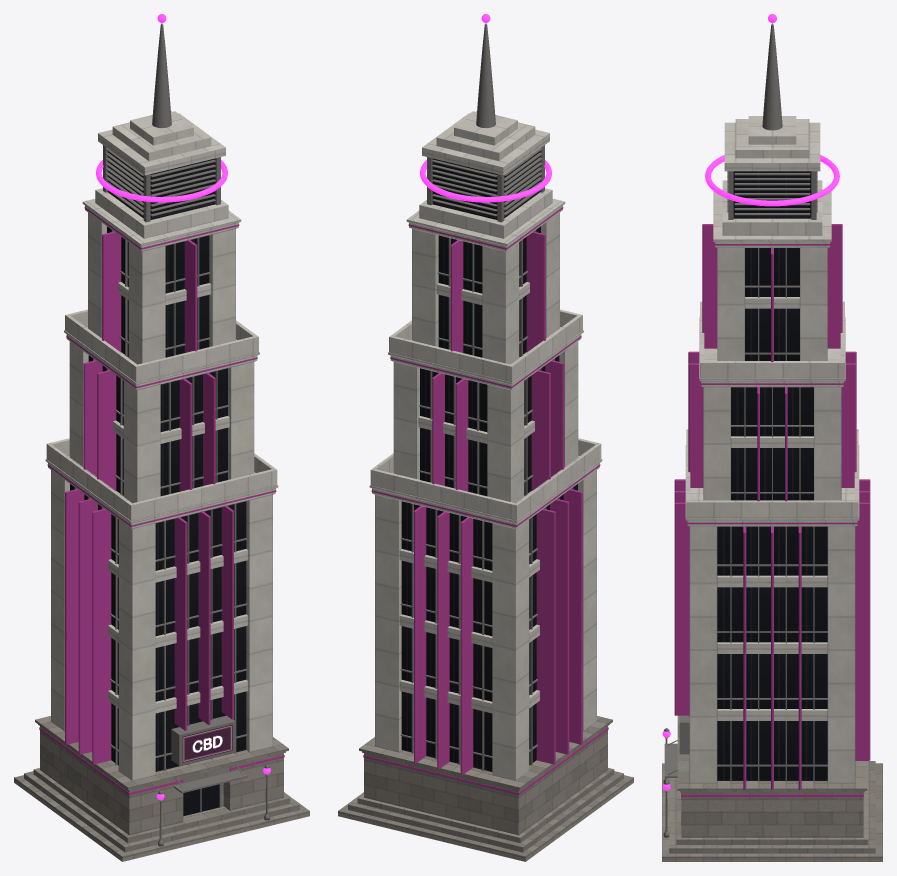
Rendered from s17-curable-blockchain-dao.glb.
3 renders of one model, left to right at view 1: azimuth 30°, elevation 25°; view 2: azimuth 150°, elevation 25°; view 3: azimuth 270°, elevation 25°, orthographic. The views are drawn at different scales.
Visible parts, largest first — view 1: Landmark · Curable.Blockchain DAO (Series 17); view 2: Landmark · Curable.Blockchain DAO (Series 17); view 3: Landmark · Curable.Blockchain DAO (Series 17).
Part boxes in pixels (x1,y1,x2,y2): Landmark · Curable.Blockchain DAO (Series 17): [14, 14, 309, 861]; Landmark · Curable.Blockchain DAO (Series 17): [338, 14, 633, 861]; Landmark · Curable.Blockchain DAO (Series 17): [662, 14, 882, 861].
Bounding box in the file's own units: 12 × 48 × 12.
7 materials, 4 textured.
